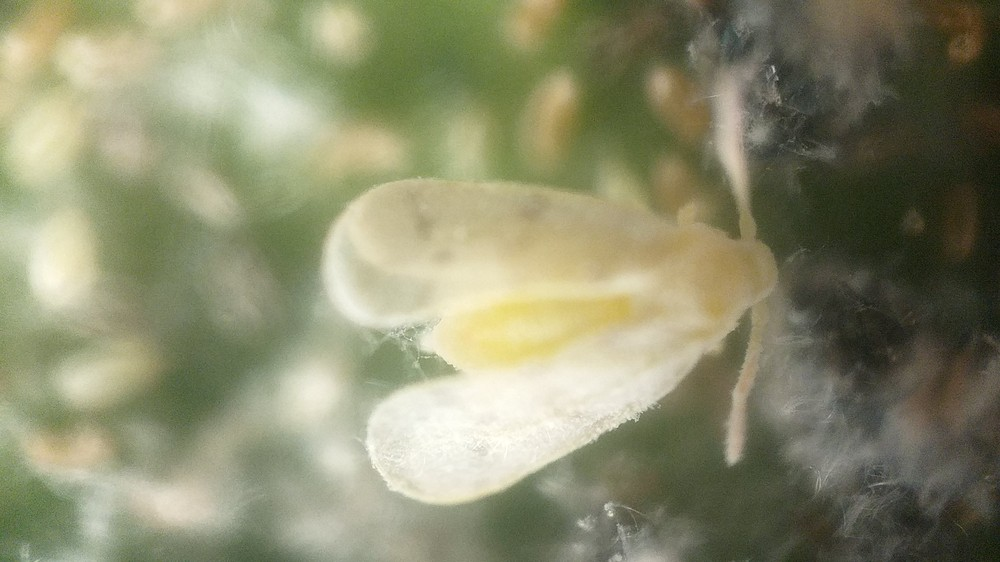Mosca Blanca: (320, 74, 793, 503)
